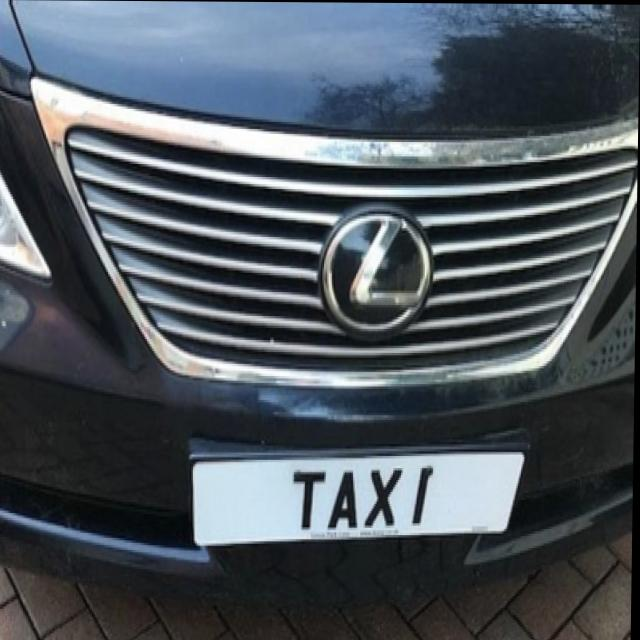licence: (184, 447, 513, 528)
